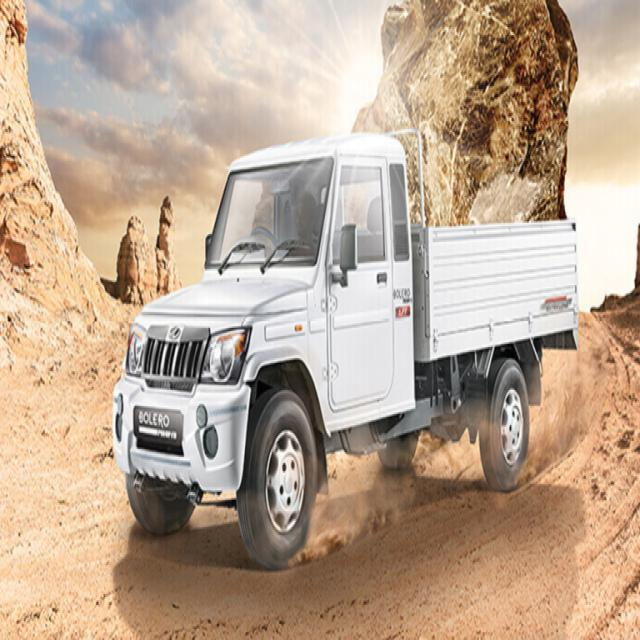truck: (112, 0, 579, 568)
